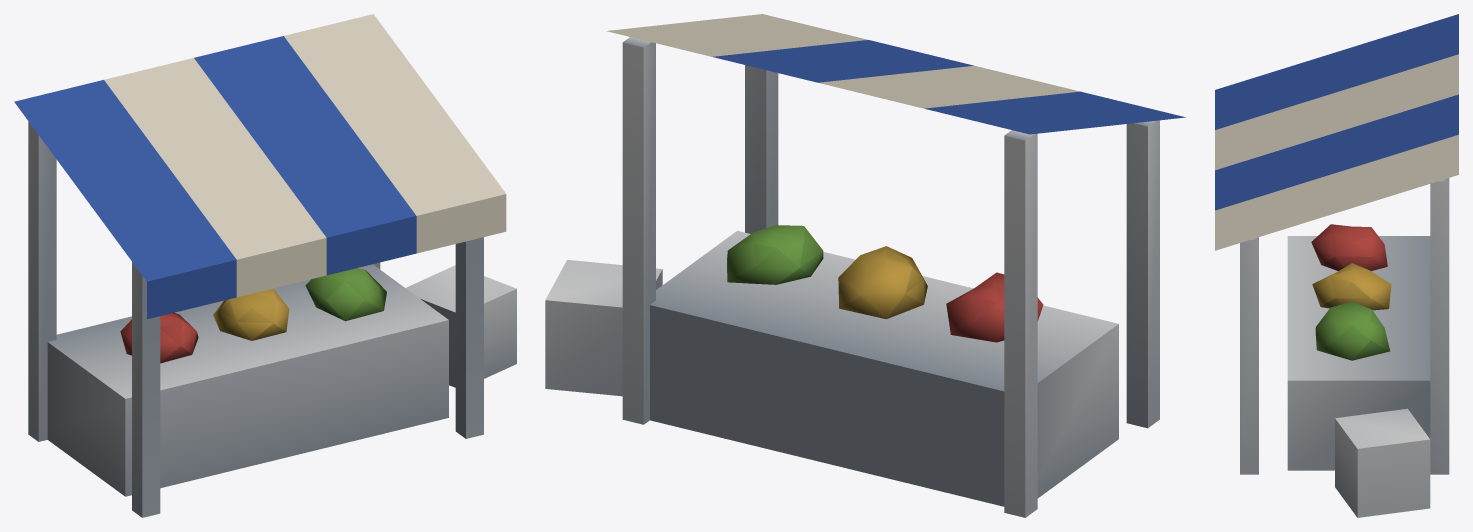
Rendered from prop_stall_b.glb.
3 views of the same model, side by side, from view 1: azimuth 30°, elevation 25°; view 2: azimuth 150°, elevation 25°; view 3: azimuth 270°, elevation 25° (orthographic). The views are drawn at different scales.
Visible parts, largest first — view 1: prop_stall_b; view 2: prop_stall_b; view 3: prop_stall_b.
Part boxes in pixels (bbox=[...]): prop_stall_b: bbox=[14, 14, 516, 517]; prop_stall_b: bbox=[545, 14, 1185, 517]; prop_stall_b: bbox=[1215, 14, 1458, 517].
Bounding box in the file's own units: 1.25 × 0.88 × 0.64.
